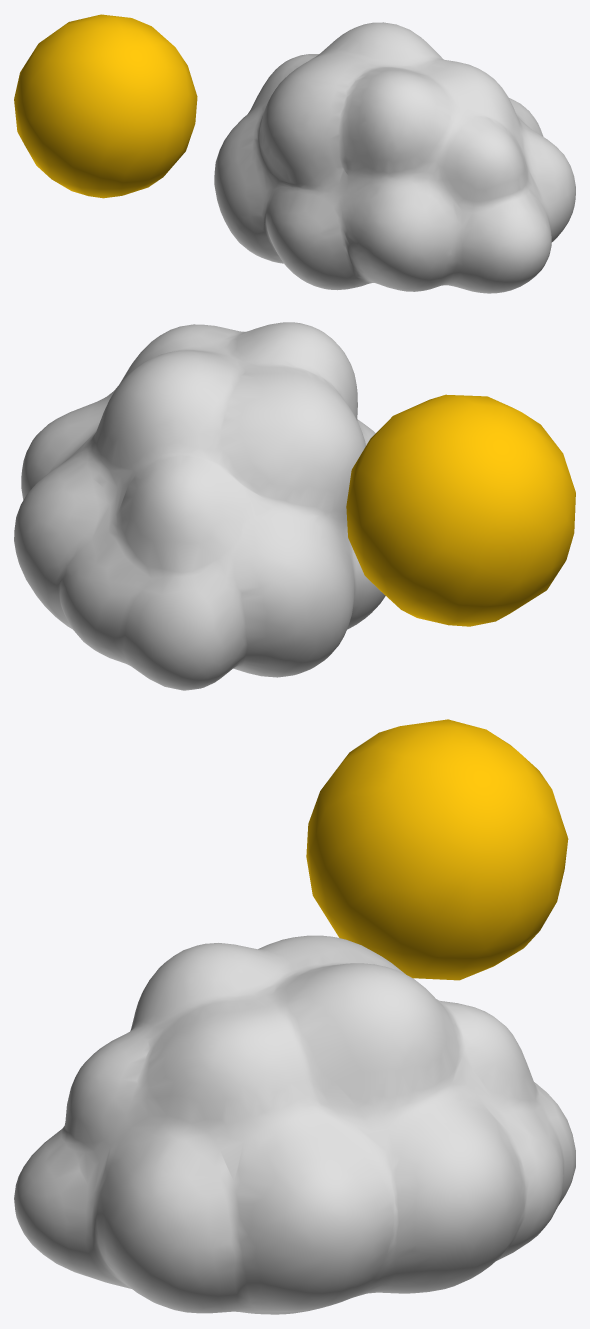
File: aire.gltf
3 views of the same model, one above another, from view 1: azimuth 30°, elevation 25°; view 2: azimuth 150°, elevation 25°; view 3: azimuth 270°, elevation 25° (orthographic). The views are drawn at different scales.
Parts seen in each view (by area): view 1: Cloud.001, Sphere.001; view 2: Cloud.001, Sphere.001; view 3: Cloud.001, Sphere.001.
Boxes of the visible parts, x1=… form: Cloud.001: x1=214, y1=22, x2=575, y2=293; Sphere.001: x1=14, y1=14, x2=197, y2=198; Cloud.001: x1=14, y1=322, x2=385, y2=690; Sphere.001: x1=346, y1=394, x2=575, y2=626; Cloud.001: x1=14, y1=935, x2=575, y2=1314; Sphere.001: x1=306, y1=719, x2=568, y2=980.
Bounding box in the file's own units: 17.56 × 9.72 × 12.9.
